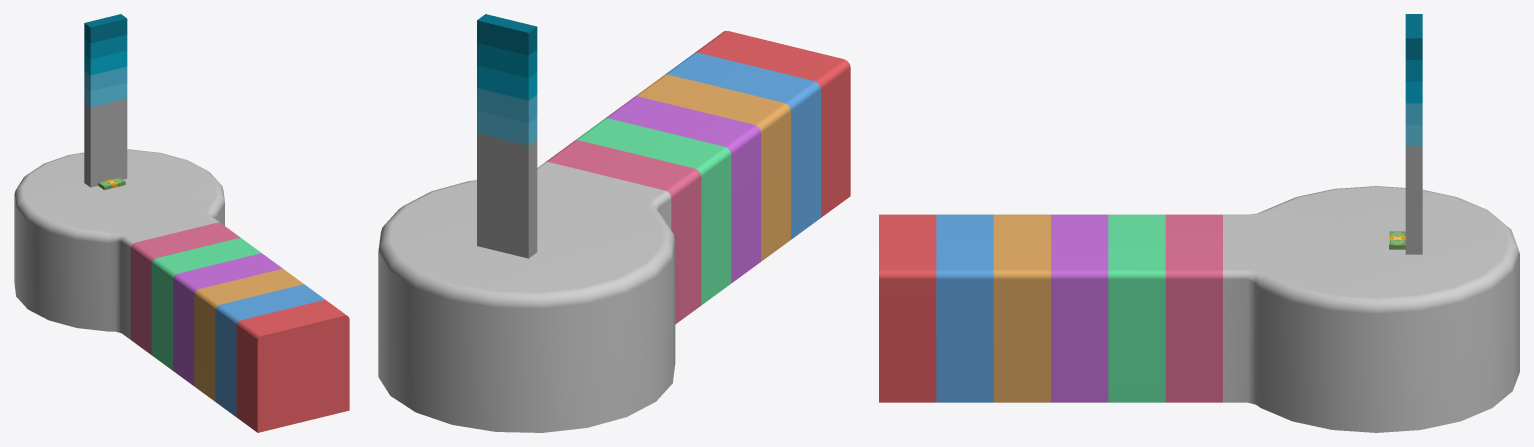
The model's file is EndArea1_01.fbx.
3 renders of one model, left to right at view 1: azimuth 30°, elevation 25°; view 2: azimuth 150°, elevation 25°; view 3: azimuth 270°, elevation 25°, orthographic. The views are drawn at different scales.
Parts seen in each view (by area): view 1: Base, Road6, Road1, Road3, Road5, Road4, Road2, BaseWall, Wall5, Wall1, Wall3, Wall2 (+1 smaller); view 2: Base, Road2, Road3, Road4, Road5, Road6, Road1, BaseWall, Wall5, Wall3, Wall1, Wall2 (+1 smaller); view 3: Base, Road5, Road2, Road6, Road4, Road3, Road1, BaseWall, Wall5.
Boxes of the visible parts, left/top/right/bottom form: Base: left=14, top=149, right=224, bottom=339; Road6: left=236, top=300, right=349, bottom=432; Road1: left=130, top=222, right=240, bottom=354; Road3: left=173, top=253, right=282, bottom=385; Road5: left=215, top=284, right=325, bottom=416; Road4: left=194, top=269, right=304, bottom=401; Road2: left=151, top=238, right=261, bottom=370; BaseWall: left=84, top=98, right=127, bottom=187; Wall5: left=84, top=14, right=127, bottom=43; Wall1: left=84, top=82, right=127, bottom=107; Wall3: left=84, top=50, right=127, bottom=75; Wall2: left=84, top=66, right=127, bottom=91; Base: left=378, top=162, right=675, bottom=432; Road2: left=575, top=118, right=731, bottom=305; Road3: left=605, top=96, right=760, bottom=283; Road4: left=635, top=74, right=790, bottom=261; Road5: left=665, top=52, right=820, bottom=239; Road6: left=695, top=31, right=850, bottom=217; Road1: left=546, top=140, right=701, bottom=324; BaseWall: left=477, top=133, right=537, bottom=258; Wall5: left=477, top=14, right=537, bottom=55; Wall3: left=477, top=65, right=537, bottom=100; Wall1: left=477, top=110, right=537, bottom=145; Wall2: left=477, top=88, right=537, bottom=123; Base: left=1223, top=186, right=1519, bottom=432; Road5: left=936, top=214, right=993, bottom=402; Road2: left=1108, top=214, right=1165, bottom=402; Road6: left=879, top=214, right=936, bottom=402; Road4: left=993, top=214, right=1050, bottom=402; Road3: left=1051, top=214, right=1108, bottom=402; Road1: left=1165, top=214, right=1222, bottom=402; BaseWall: left=1405, top=146, right=1422, bottom=254; Wall5: left=1405, top=14, right=1422, bottom=59.
Size of the model in its own units: 1199 by 1600 by 2682.
